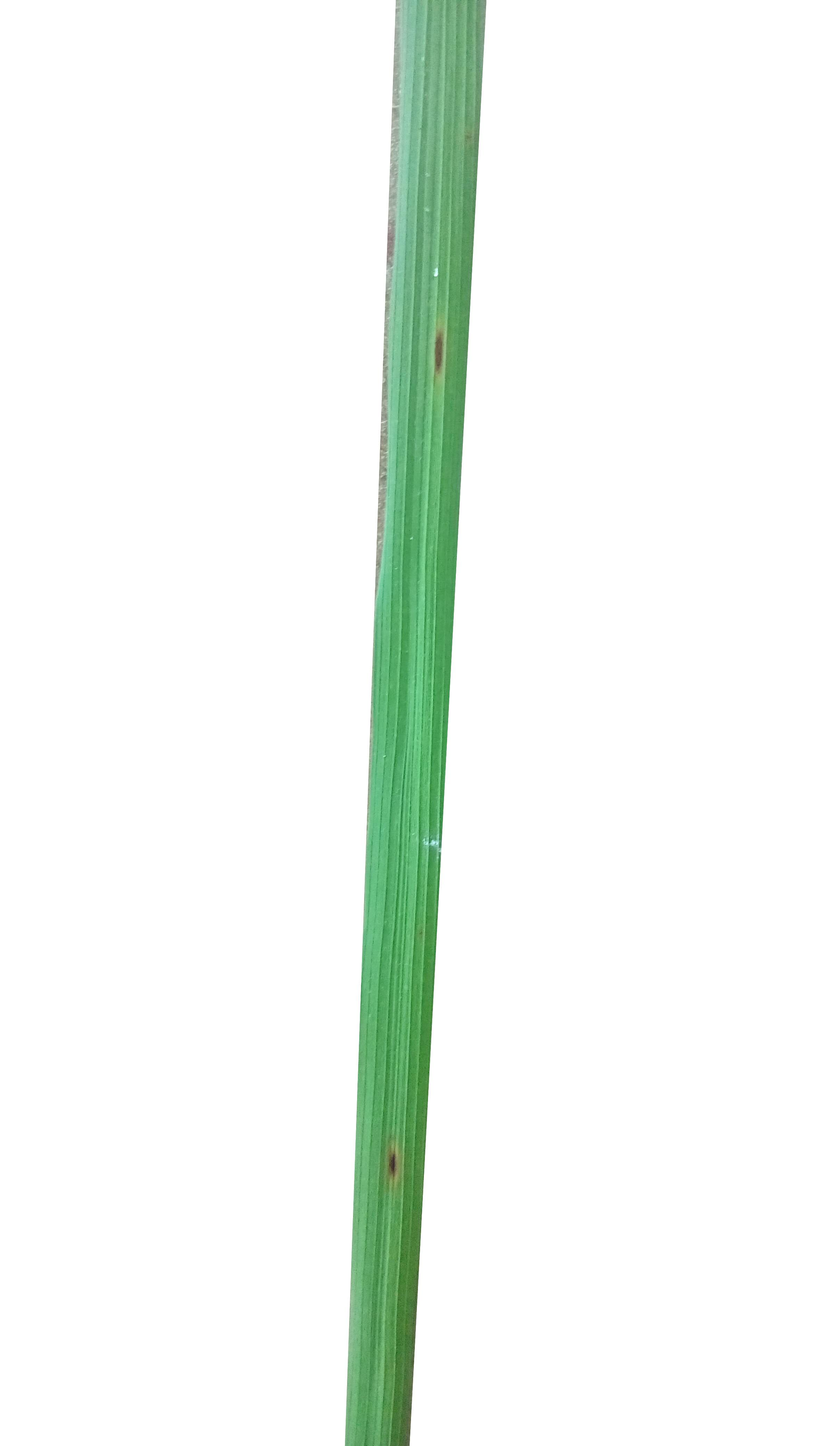Brown spot: (410, 313, 476, 403)
